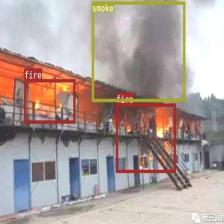fire: (116, 103, 176, 172), (24, 79, 75, 123)
smoke: (92, 1, 184, 101)
